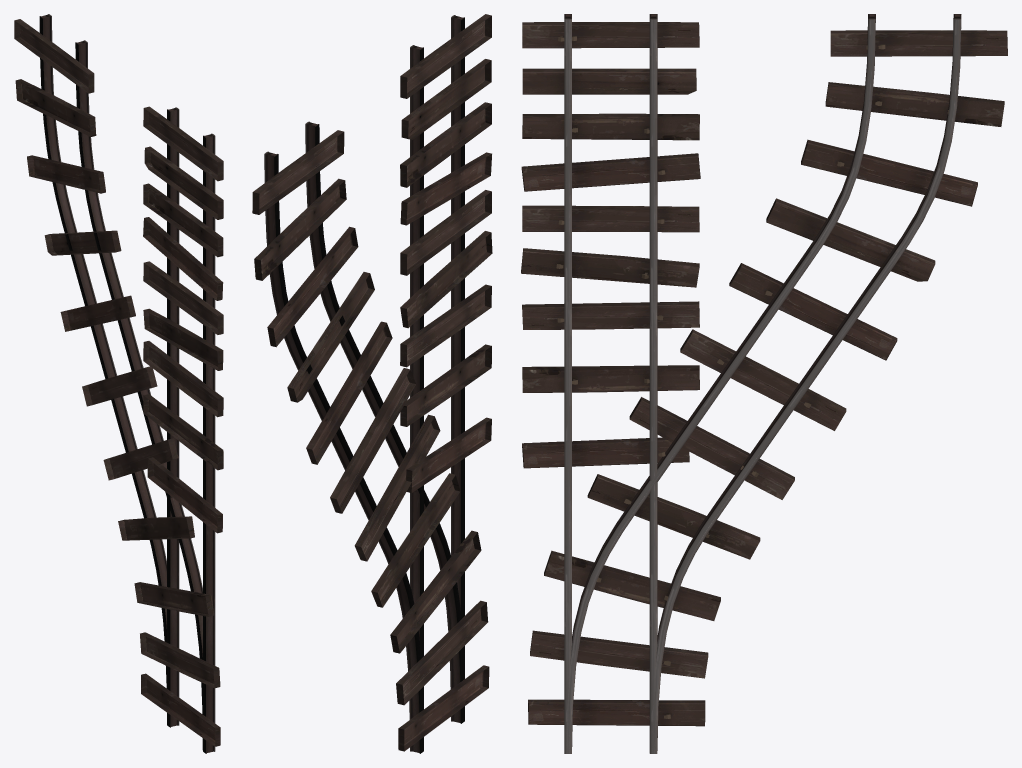
File: props_mining_track_y_joint_s_curve_96.glb
3 views of the same model, side by side, from view 1: azimuth 30°, elevation 25°; view 2: azimuth 150°, elevation 25°; view 3: azimuth 270°, elevation 25° (orthographic). The views are drawn at different scales.
Visible parts, largest first — view 1: models/props_mining/track_y_joint_s_curve_96; view 2: models/props_mining/track_y_joint_s_curve_96; view 3: models/props_mining/track_y_joint_s_curve_96.
Part boxes in pixels (x1,y1,x2,y2): models/props_mining/track_y_joint_s_curve_96: (14,14,223,753); models/props_mining/track_y_joint_s_curve_96: (252,14,492,753); models/props_mining/track_y_joint_s_curve_96: (521,14,1007,753).
Bounding box in the file's own units: 6.71 × 256 × 154.
1 material, 1 textured.
